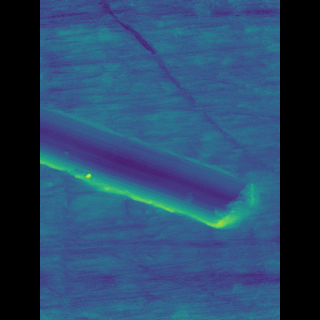Loch: (69, 104, 237, 230)
